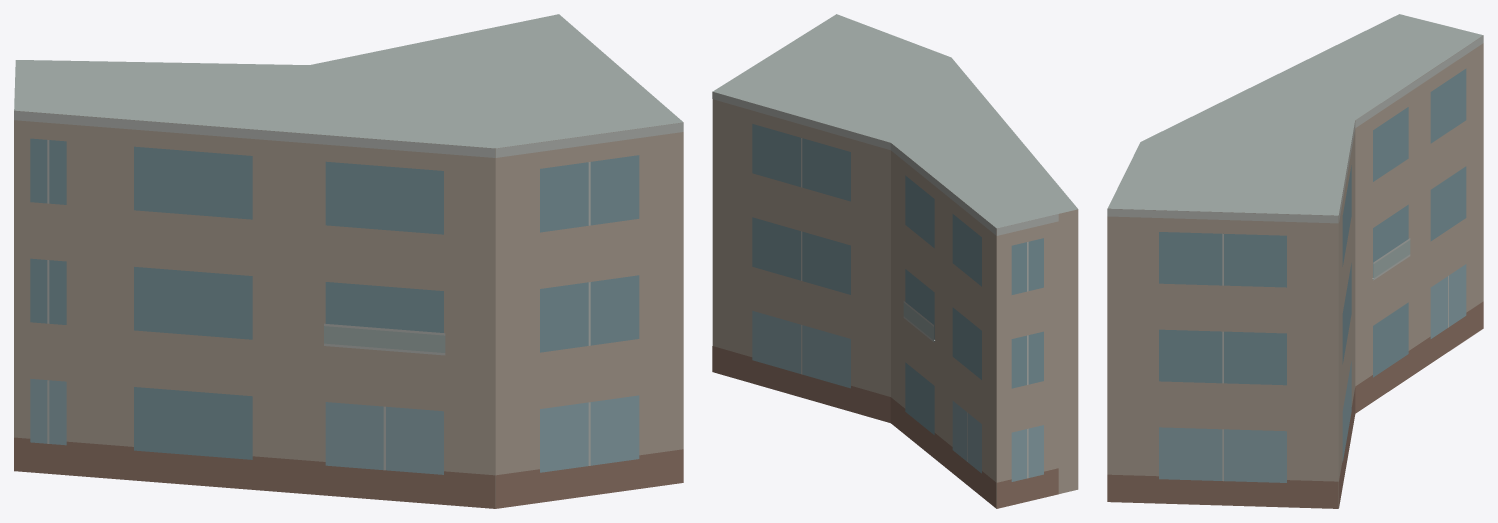
Rendered from survey-upis-33019777.glb.
The picture shows the model from 3 angles, left to right: view 1: azimuth 30°, elevation 25°; view 2: azimuth 150°, elevation 25°; view 3: azimuth 270°, elevation 25°; orthographic projection. The views are drawn at different scales.
Parts seen in each view (by area): view 1: survey-upis-33019777.tmp; view 2: survey-upis-33019777.tmp; view 3: survey-upis-33019777.tmp.
Part boxes in pixels (x1,y1,x2,y2): survey-upis-33019777.tmp: (14, 14, 683, 508); survey-upis-33019777.tmp: (712, 14, 1078, 508); survey-upis-33019777.tmp: (1107, 14, 1483, 508).
Bounding box in the file's own units: 13.5 × 9.15 × 10.64.
